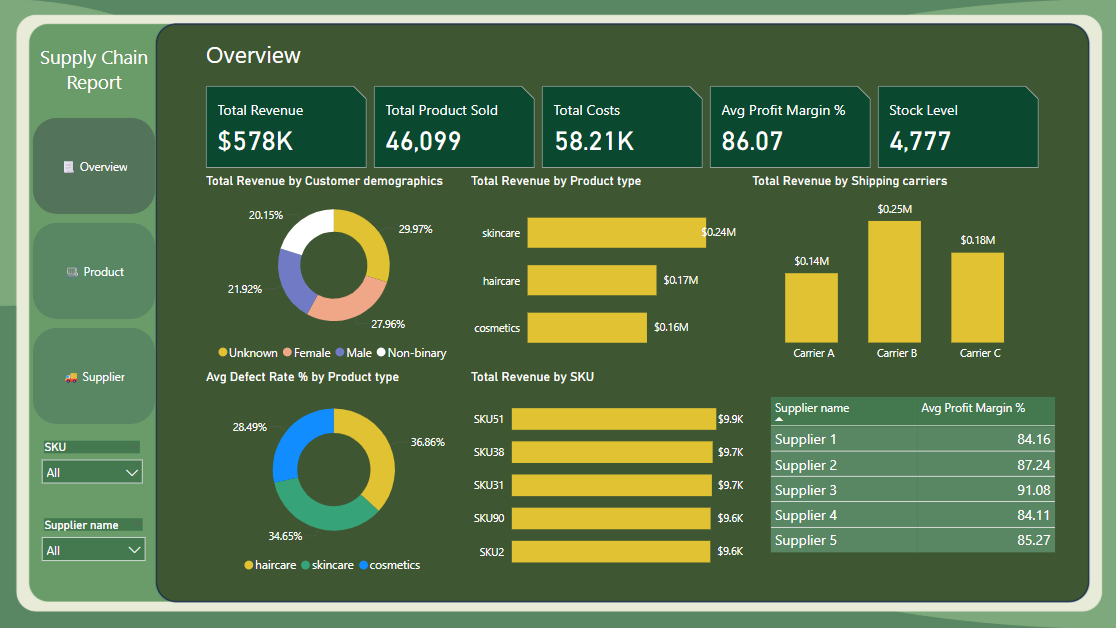

What the dashboard file says about the page in this screenshot:
{"tool":"powerbi","page":{"name":"📃 Overview","canvas":[1280,720],"ordinal":0},"visuals":[{"type":"cardVisual","fields":{"Data":["_Measures.Total Revenue","_Measures.Total Product Sold","_Measures.Total Costs","_Measures.Avg Profit Margin %","_Measures.Stock Level"]},"box":[231.4,94.3,965.7,104.3],"z":0},{"type":"donutChart","fields":{"Y":["_Measures.Total Revenue"],"Category":["supply_chain_data.Customer demographics"]},"box":[231.4,198.6,302.9,224.3],"z":1000},{"type":"donutChart","fields":{"Y":["_Measures.Avg Defect Rate %"],"Category":["supply_chain_data.Product type"]},"box":[231.4,422.9,302.9,242.9],"z":2000},{"type":"clusteredBarChart","fields":{"Y":["_Measures.Total Revenue"],"Category":["supply_chain_data.Product type"]},"box":[534.3,198.6,312.9,224.3],"z":3000},{"type":"clusteredBarChart","fields":{"Y":["_Measures.Total Revenue"],"Category":["supply_chain_data.SKU"]},"box":[534.3,422.9,321.4,242.9],"z":4000},{"type":"clusteredColumnChart","fields":{"Category":["supply_chain_data.Shipping carriers"],"Y":["_Measures.Total Revenue"]},"box":[855.7,198.6,341.4,224.3],"z":5000},{"type":"tableEx","fields":{"Values":["supply_chain_data.Supplier name","_Measures.Avg Profit Margin %"]},"box":[875.7,450,341.4,225.7],"z":6000},{"type":"textbox","box":[231.4,40,192.9,51.4],"z":7000},{"type":"pageNavigator","box":[38.6,135.7,140,350],"z":7001,"group":"g1"},{"type":"slicer","fields":{"Values":["supply_chain_data.SKU"]},"box":[38.6,500,135.7,62.9],"z":7002,"group":"g1"},{"type":"slicer","fields":{"Values":["supply_chain_data.Supplier name"]},"box":[38.6,588.6,138.6,65.7],"z":7003,"group":"g1"},{"type":"textbox","box":[38.6,45.7,140,90],"z":7004,"group":"g1"},{"type":"group","id":"g1","title":"Group 1","box":[38.6,45.7,140,608.6],"z":7005}]}

Visuals, with their boxes in screenshot pixels (x1, y1, x2, y2), scaled from the page's 1280x720 canvas onto the 1116x628 screenshot:
cardVisual - _Measures.Total Revenue x _Measures.Total Product Sold: {"left": 202, "top": 82, "right": 1044, "bottom": 173}
donutChart - _Measures.Total Revenue x supply_chain_data.Customer demographics: {"left": 202, "top": 173, "right": 466, "bottom": 369}
donutChart - _Measures.Avg Defect Rate % x supply_chain_data.Product type: {"left": 202, "top": 369, "right": 466, "bottom": 581}
clusteredBarChart - _Measures.Total Revenue x supply_chain_data.Product type: {"left": 466, "top": 173, "right": 739, "bottom": 369}
clusteredBarChart - _Measures.Total Revenue x supply_chain_data.SKU: {"left": 466, "top": 369, "right": 746, "bottom": 581}
clusteredColumnChart - supply_chain_data.Shipping carriers x _Measures.Total Revenue: {"left": 746, "top": 173, "right": 1044, "bottom": 369}
tableEx - supply_chain_data.Supplier name x _Measures.Avg Profit Margin %: {"left": 764, "top": 392, "right": 1061, "bottom": 589}
textbox: {"left": 202, "top": 35, "right": 370, "bottom": 80}
pageNavigator: {"left": 34, "top": 118, "right": 156, "bottom": 424}
slicer - supply_chain_data.SKU: {"left": 34, "top": 436, "right": 152, "bottom": 491}
slicer - supply_chain_data.Supplier name: {"left": 34, "top": 513, "right": 154, "bottom": 571}
textbox: {"left": 34, "top": 40, "right": 156, "bottom": 118}
"Group 1" group: {"left": 34, "top": 40, "right": 156, "bottom": 571}
